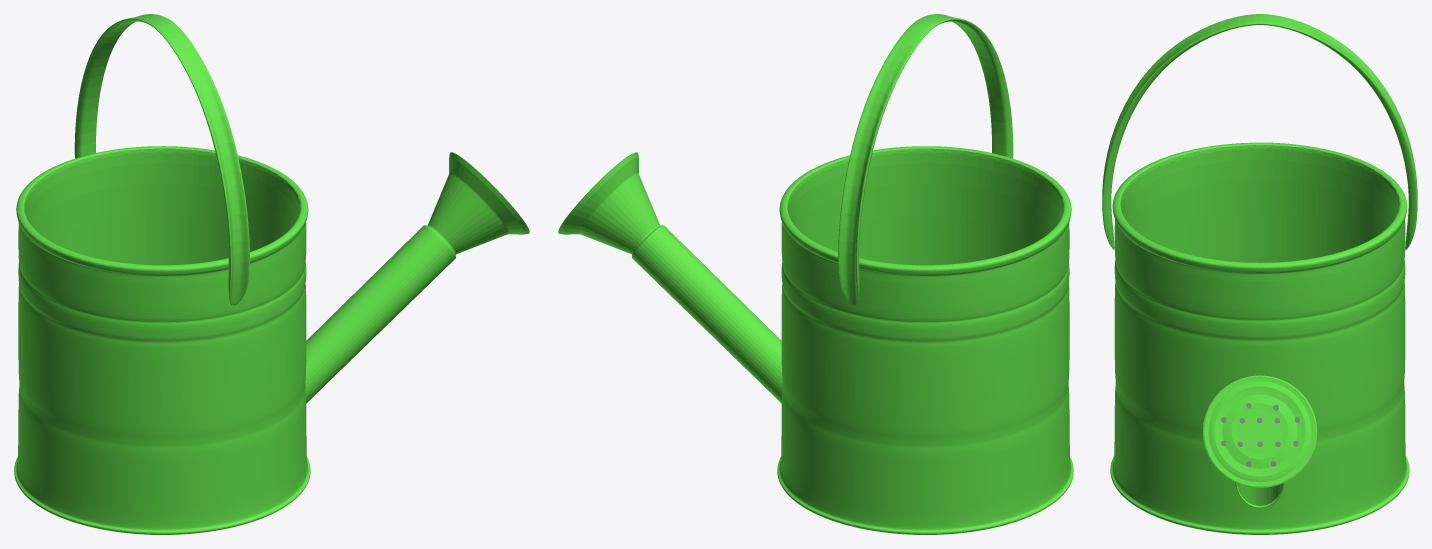
The model's file is wateringCANBunAa.fbx.
3 views of the same model, side by side, from view 1: azimuth 30°, elevation 25°; view 2: azimuth 150°, elevation 25°; view 3: azimuth 270°, elevation 25° (orthographic).
Visible parts, largest first — view 1: uploads_files_3421452_watering_can_high_poly; view 2: uploads_files_3421452_watering_can_high_poly; view 3: uploads_files_3421452_watering_can_high_poly.
Boxes of the visible parts, left/top/right/bottom form: uploads_files_3421452_watering_can_high_poly: left=14, top=14, right=529, bottom=534; uploads_files_3421452_watering_can_high_poly: left=558, top=14, right=1073, bottom=534; uploads_files_3421452_watering_can_high_poly: left=1102, top=14, right=1417, bottom=534.
Size of the model in its own units: 68.55 by 61.06 by 38.3.
